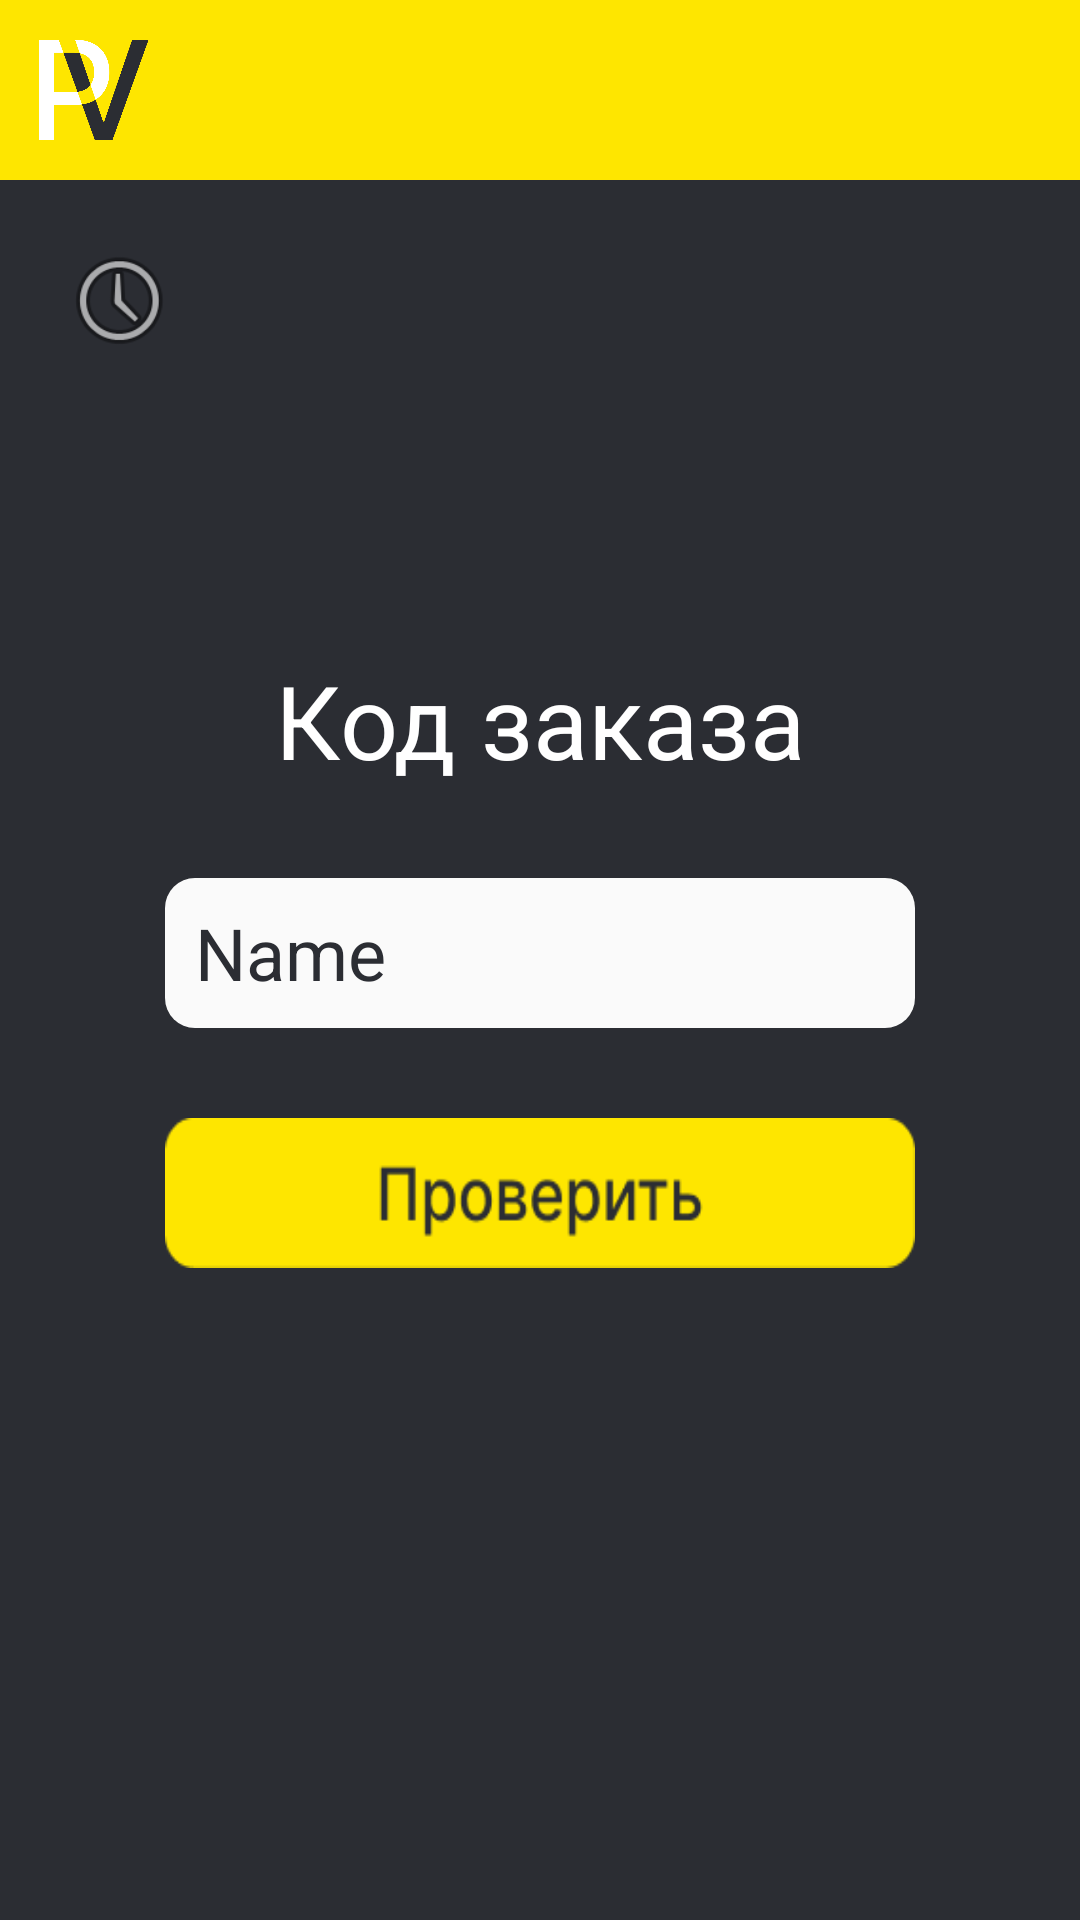

Locate icon controls on the screen. Image size 1080 × 1920, boxes as (x1, y1, x2, y2).
recent history: (80, 260, 160, 340)
